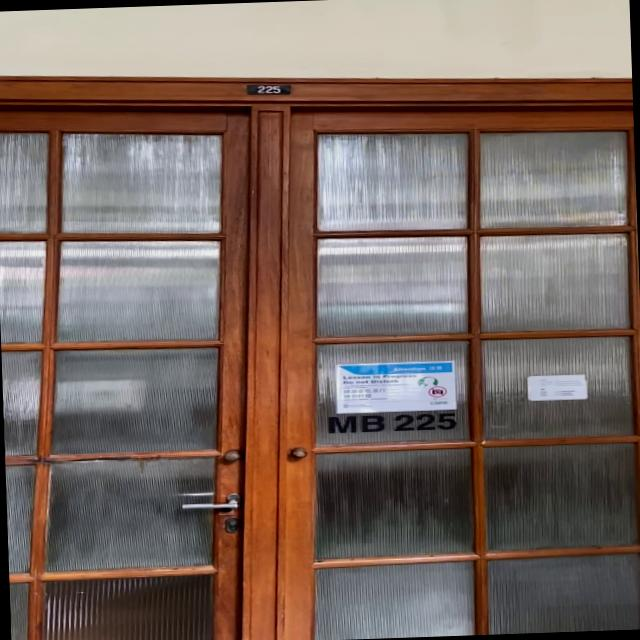room225: (244, 82, 293, 96)
room225Window: (326, 411, 458, 436)
